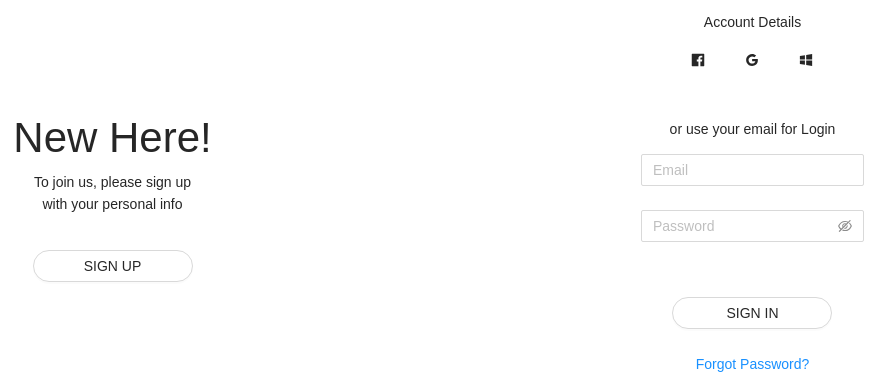
Test: <Login /> › Should show error if email and password was not added
Step 1. Click the button with test id "log-in" → coordinates (752, 313), box [672,297,832,329]
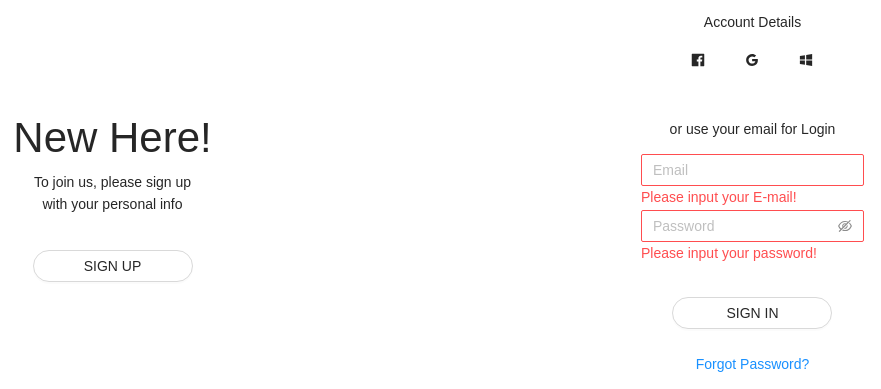
Now the number of messages is 2, box [641,189,797,205]; [641,245,817,261]
Now the text "Please input your E-mail!" is shown, box [641,189,797,205]
Now the text "Please input your password!" is shown, box [641,245,817,261]
